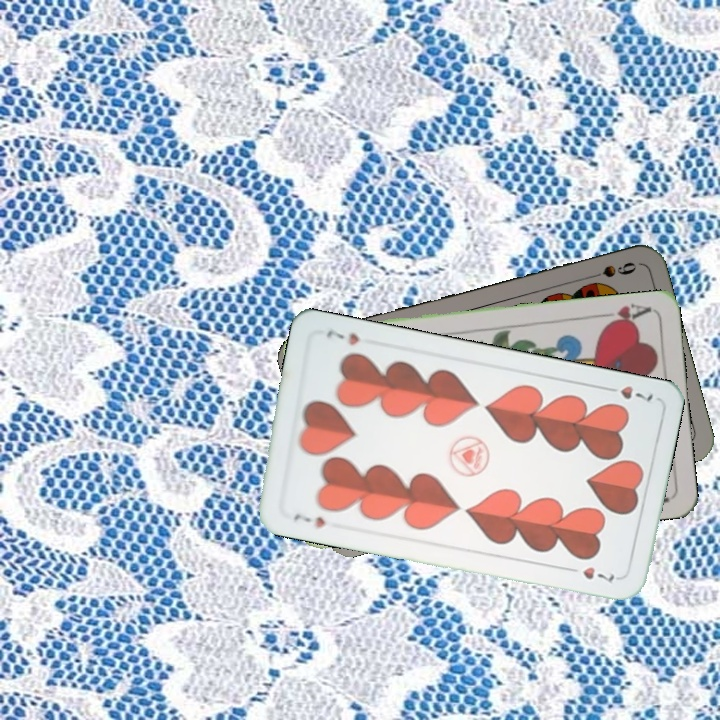H7: (599, 381, 656, 407), (290, 509, 328, 531)
HA: (594, 300, 654, 330)
S9: (581, 258, 639, 283)
